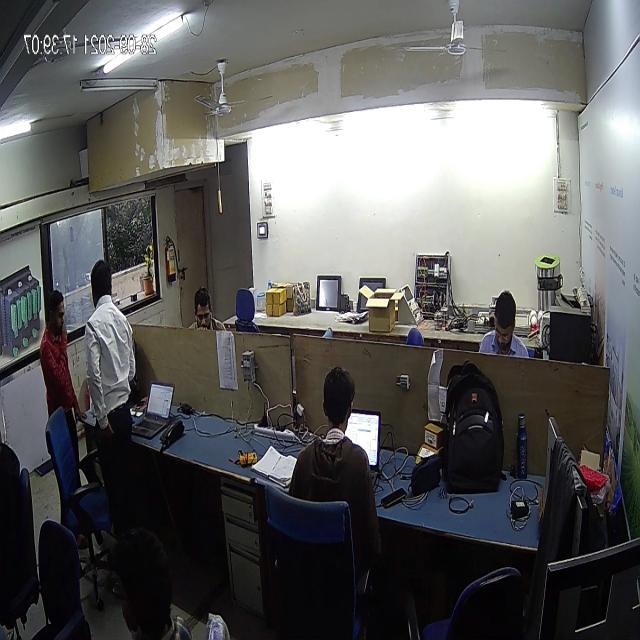adult: (80, 236, 144, 618), (32, 278, 84, 490)
